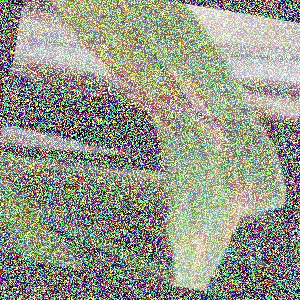Brown_Spot: (86, 55, 185, 121), (161, 68, 240, 143), (216, 160, 279, 231), (185, 222, 225, 276)
